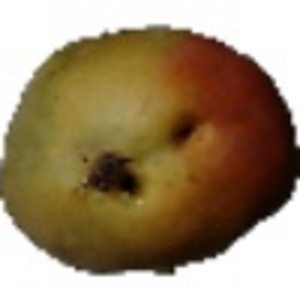mamão: (6, 19, 296, 281)
